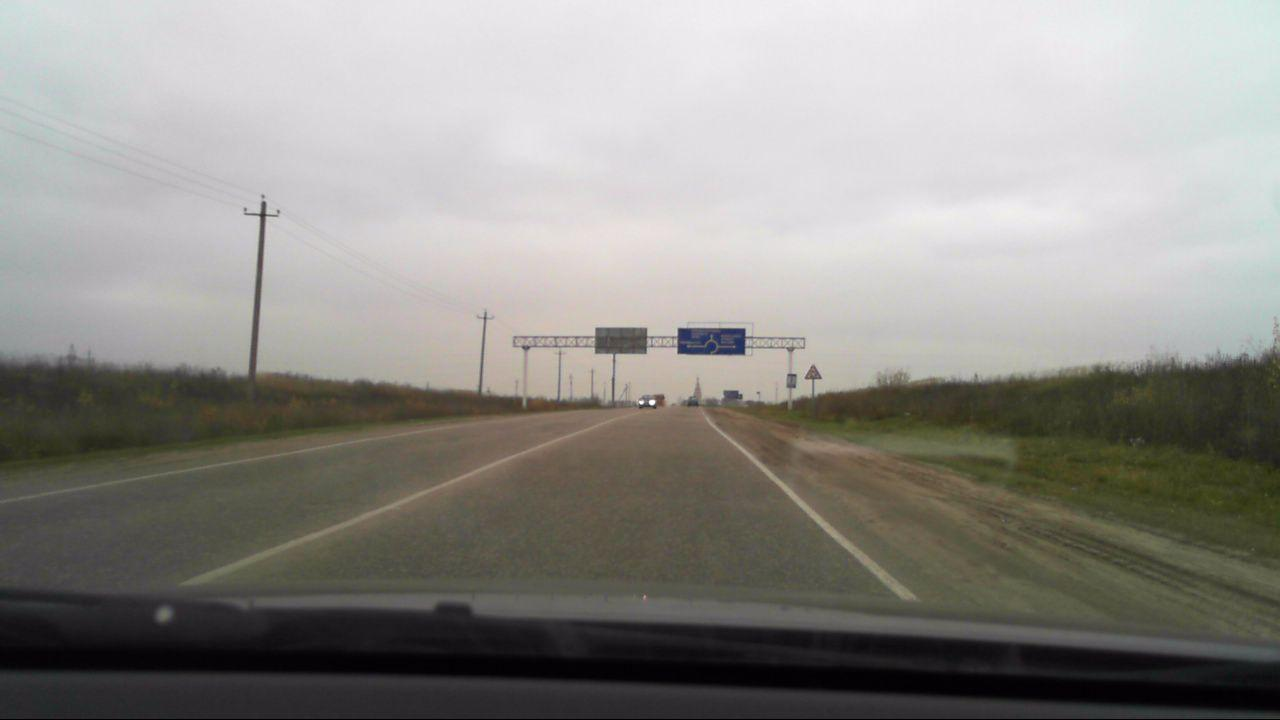1_7: (803, 364, 821, 381)
6_9_1: (676, 324, 747, 358)
